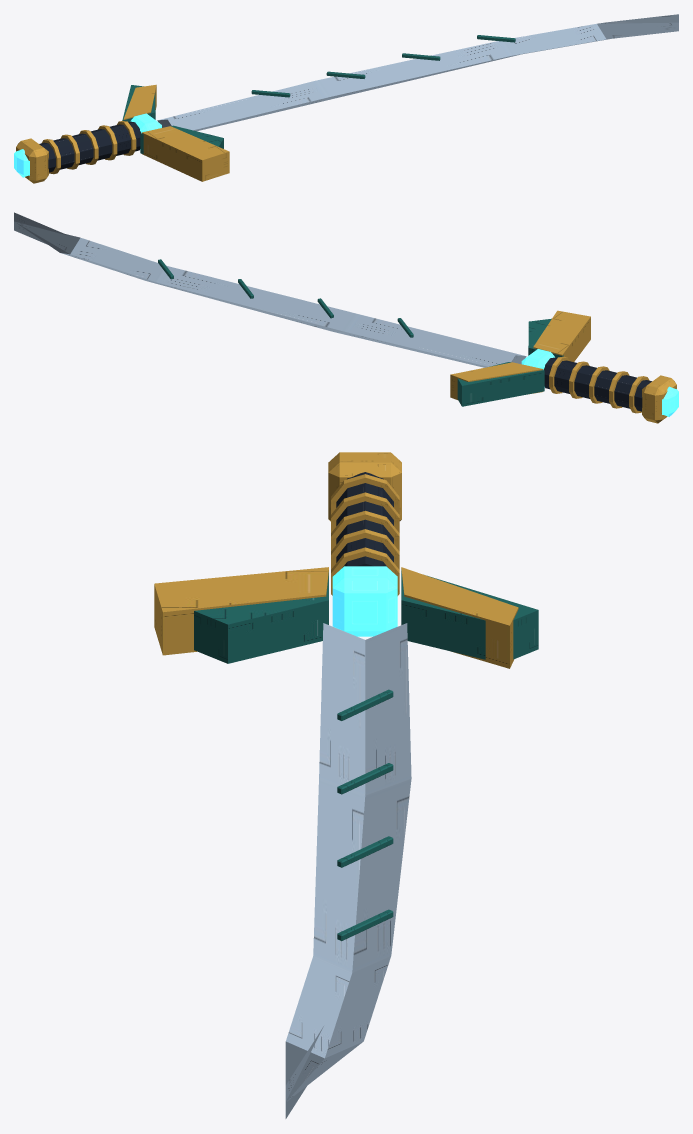
The model's file is leviathan.glb.
3 views of the same model, one above another, from view 1: azimuth 30°, elevation 25°; view 2: azimuth 150°, elevation 25°; view 3: azimuth 270°, elevation 25° (orthographic). The views are drawn at different scales.
Parts seen in each view (by area): view 1: blade, guard, grip; view 2: blade, guard, grip; view 3: blade, guard, grip.
Part boxes in pixels (x1=…): blade: x1=157, y1=14, x2=678, y2=131; guard: x1=122, y1=84, x2=229, y2=181; grip: x1=14, y1=120, x2=140, y2=183; blade: x1=14, y1=212, x2=526, y2=367; guard: x1=450, y1=310, x2=590, y2=406; grip: x1=544, y1=356, x2=678, y2=423; blade: x1=285, y1=623, x2=411, y2=1118; guard: x1=154, y1=566, x2=538, y2=668; grip: x1=328, y1=452, x2=401, y2=595.
Bounding box in the file's own units: 1.03 × 0.051 × 0.266.
5 materials, 5 textured.
